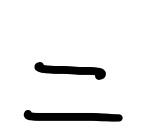eqv: (16, 61, 125, 124)
